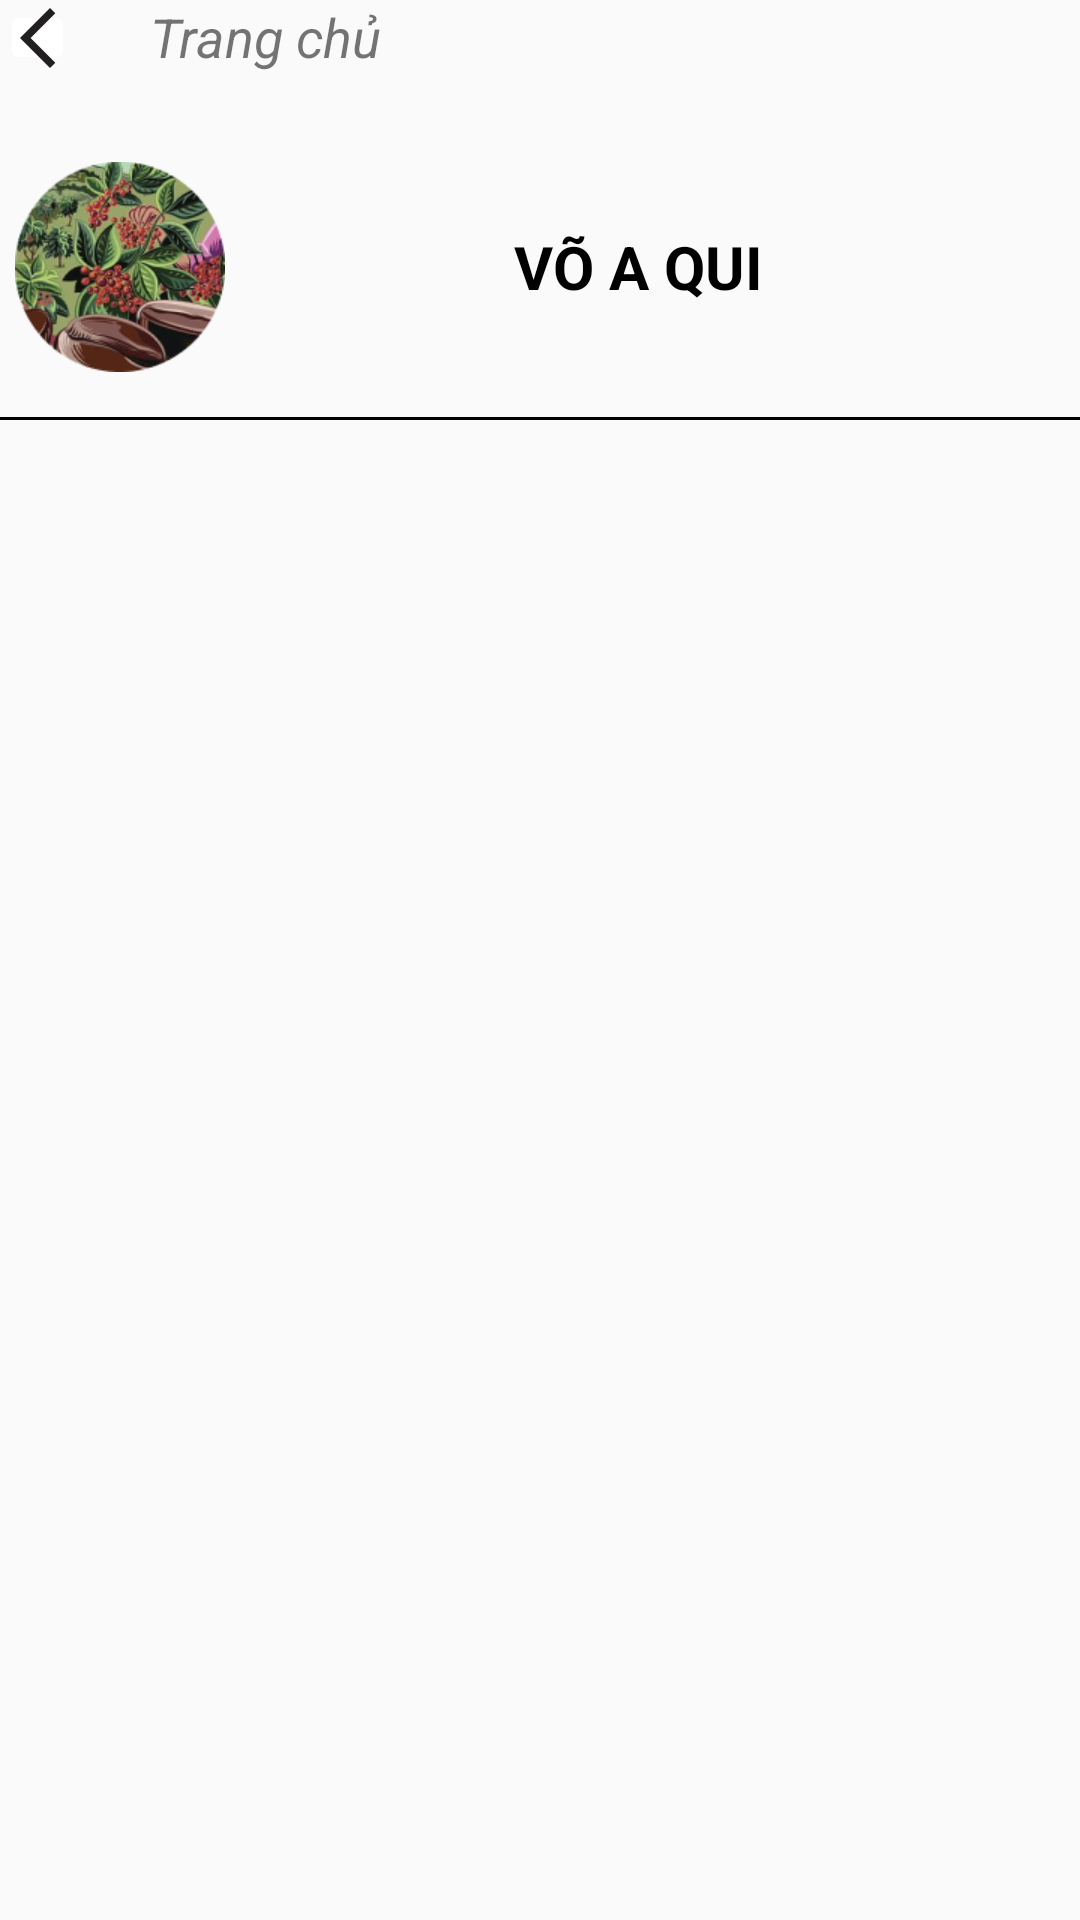

Icons on this 1080px x 1920px Android screen, each with its box as [x1=x1, y1=y1, x2=x2, y2=y2]:
arrow back: [x1=20, y1=8, x2=55, y2=68]
toobar avt: [x1=15, y1=162, x2=225, y2=372]
